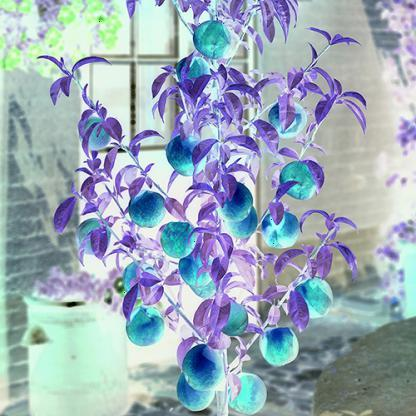Peach leaf: (115, 284, 142, 331), (51, 190, 78, 235), (252, 118, 281, 159), (188, 138, 222, 171), (84, 224, 107, 270), (288, 284, 310, 332), (270, 249, 307, 274), (71, 53, 115, 74), (210, 292, 228, 339), (278, 88, 296, 134), (147, 72, 174, 99), (189, 74, 213, 104), (225, 134, 262, 153), (317, 242, 335, 280), (216, 230, 234, 268), (266, 196, 288, 227), (104, 116, 127, 144), (219, 172, 239, 204), (313, 93, 335, 122), (164, 195, 186, 223), (210, 256, 226, 288), (129, 172, 144, 200)
